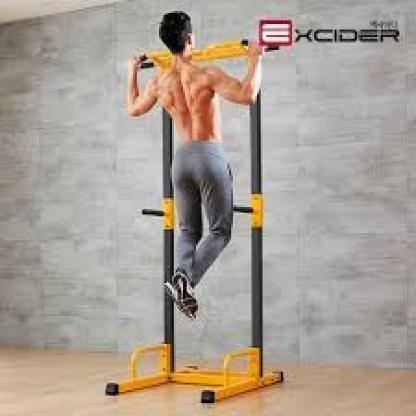chinning dipping: (104, 41, 285, 404)
